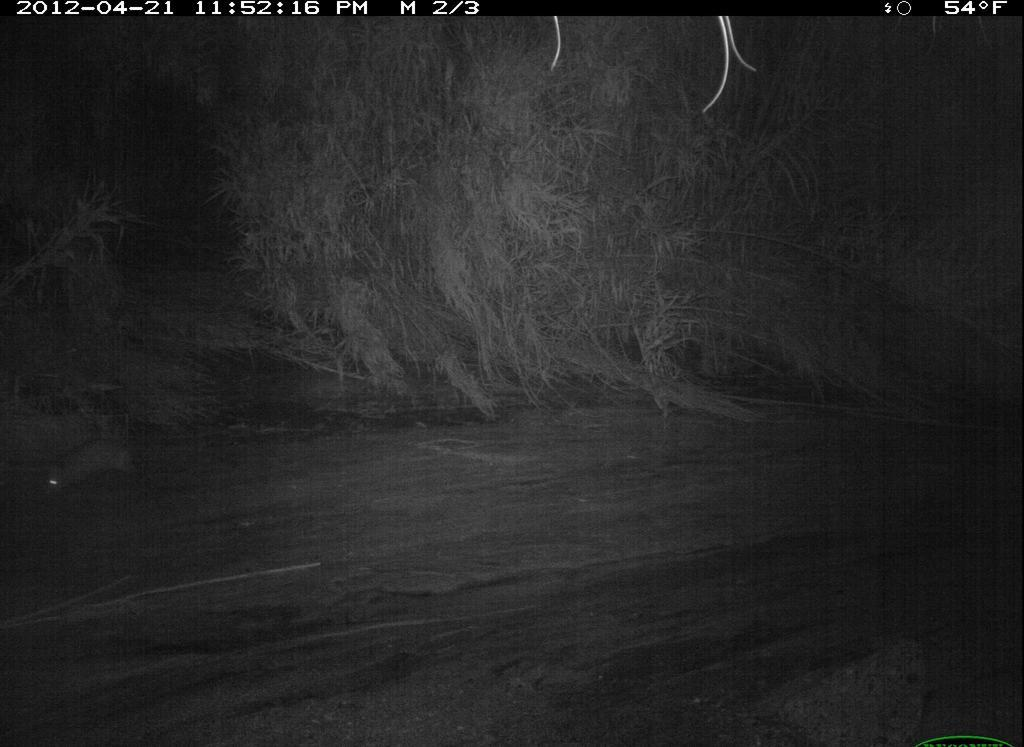opossum: (33, 433, 208, 506)
